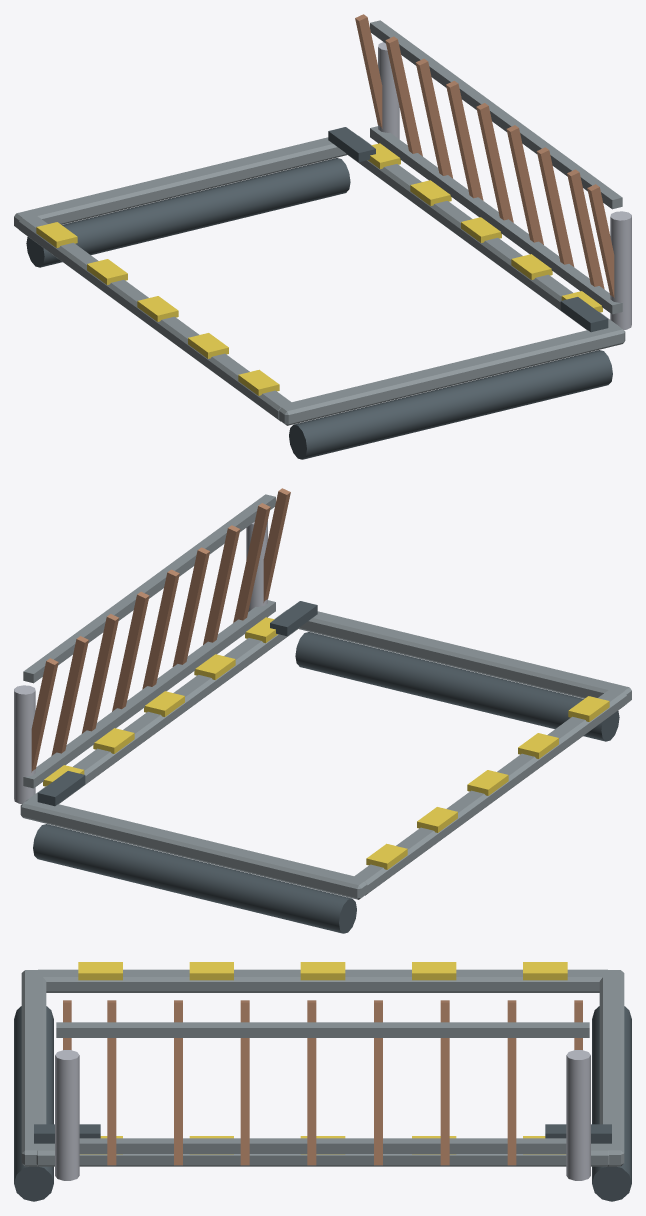
File: cradle_reject_hatch.glb
3 renders of one model, top to bottom at view 1: azimuth 30°, elevation 25°; view 2: azimuth 150°, elevation 25°; view 3: azimuth 270°, elevation 25°, orthographic. The views are drawn at different scales.
Visible parts, largest first — view 1: darksteel.001, darksteel, steel.003, steel.002, steel, steel.004, steel.001, steel.005, silver.001, rust.004, rust.002, rust.003 (+17 smaller); view 2: darksteel, darksteel.001, steel.002, steel.003, steel, steel.004, steel.001, steel.005, silver, rust.003, rust.001, rust.006 (+17 smaller); view 3: steel, steel.005, steel.004, steel.001, steel.003, steel.002, darksteel, darksteel.001, silver, silver.001, rust.002, rust.004 (+12 smaller).
Boxes of the visible parts, <box> form: darksteel.001: <box>289,350,612,459</box>; darksteel: <box>26,158,350,267</box>; steel.003: <box>279,323,625,425</box>; steel.002: <box>14,132,356,229</box>; steel: <box>19,214,293,421</box>; steel.004: <box>370,126,622,314</box>; steel.001: <box>346,135,619,329</box>; steel.005: <box>370,20,622,209</box>; silver.001: <box>610,211,631,329</box>; rust.004: <box>476,103,513,222</box>; rust.002: <box>415,58,452,178</box>; rust.003: <box>446,80,483,200</box>; darksteel: <box>33,824,356,933</box>; darksteel.001: <box>295,632,619,741</box>; steel.002: <box>20,797,366,899</box>; steel.003: <box>289,606,631,703</box>; steel: <box>352,688,626,895</box>; steel.004: <box>23,600,275,788</box>; steel.001: <box>26,609,299,803</box>; steel.005: <box>23,494,275,683</box>; silver: <box>14,685,35,803</box>; rust.003: <box>112,591,149,711</box>; rust.001: <box>51,636,88,755</box>; rust.006: <box>203,525,240,644</box>; steel: <box>38,969,607,992</box>; steel.005: <box>56,1022,589,1037</box>; steel.004: <box>79,1138,566,1153</box>; steel.001: <box>36,1143,609,1166</box>; steel.003: <box>21,970,46,1166</box>; steel.002: <box>599,970,624,1166</box>; darksteel: <box>592,1006,631,1201</box>; darksteel.001: <box>14,1006,53,1201</box>; silver: <box>566,1050,590,1180</box>; silver.001: <box>55,1050,79,1180</box>; rust.002: <box>440,1000,449,1165</box>; rust.004: <box>307,1000,316,1165</box>.
Size of the model in its own units: 4.19 by 2.02 by 5.56.
